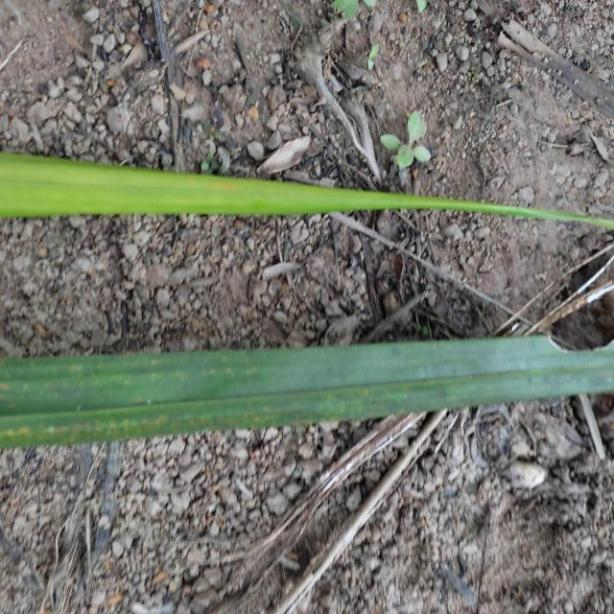nitrogen: (0, 332, 614, 451), (0, 154, 611, 227)
